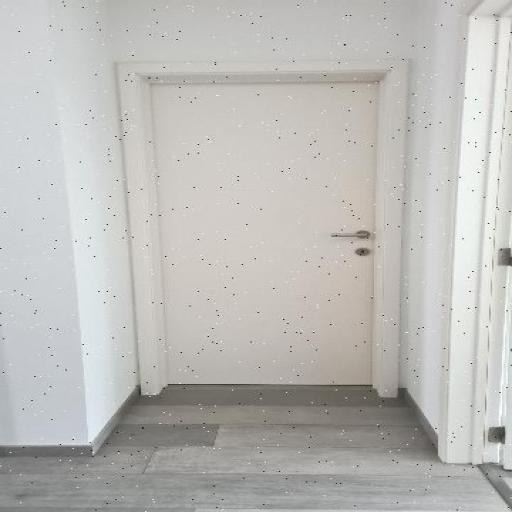door: (106, 56, 420, 405)
